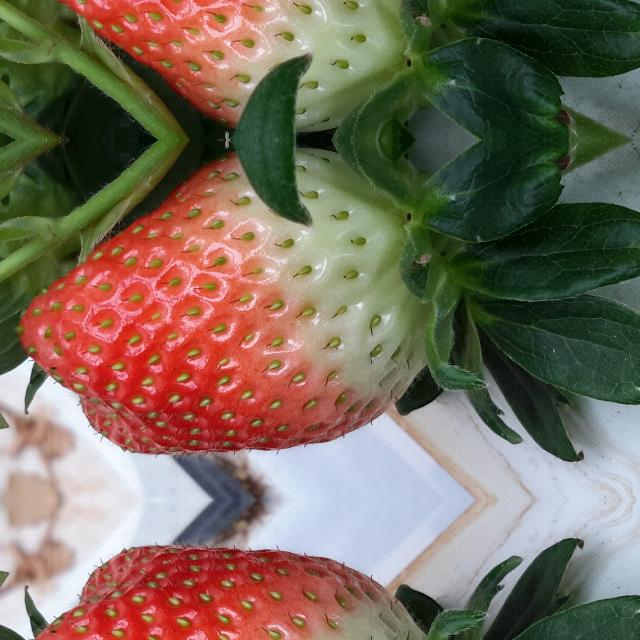Health_75: (16, 146, 427, 457), (15, 0, 426, 134), (15, 543, 426, 640)
